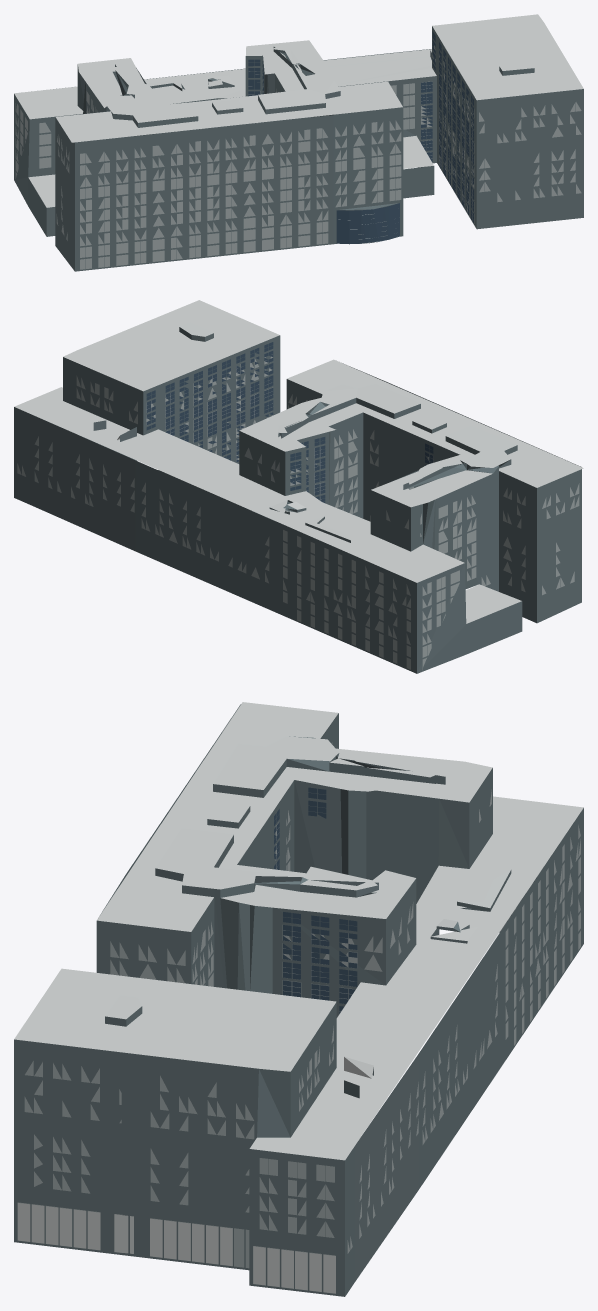
Rendered from vriesseveem-9.lod1.glb.
The picture shows the model from 3 angles, top to bottom: view 1: azimuth 30°, elevation 25°; view 2: azimuth 150°, elevation 25°; view 3: azimuth 270°, elevation 25°; orthographic projection. The views are drawn at different scales.
Visible parts, largest first — view 1: vriesseveem-9; view 2: vriesseveem-9; view 3: vriesseveem-9.
Boxes of the visible parts, x1,y1,x2,y2 form: vriesseveem-9: (14,14,583,271); vriesseveem-9: (14,300,583,673); vriesseveem-9: (14,702,583,1296).
Bounding box in the file's own units: 138 × 34.93 × 85.
